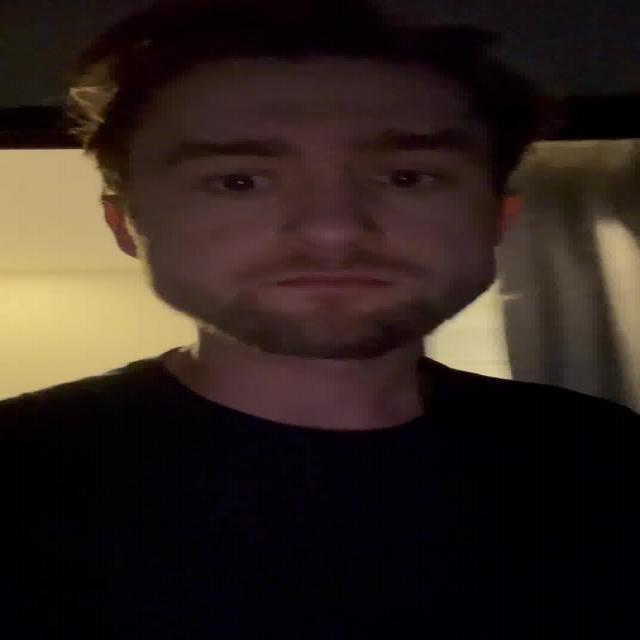earlobe: (98, 194, 140, 259), (492, 194, 522, 250)
